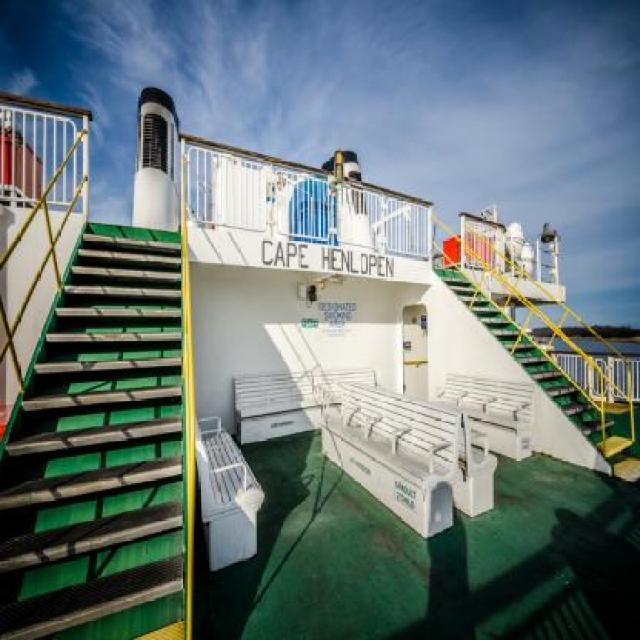stair: (0, 223, 178, 640), (424, 264, 640, 481)
